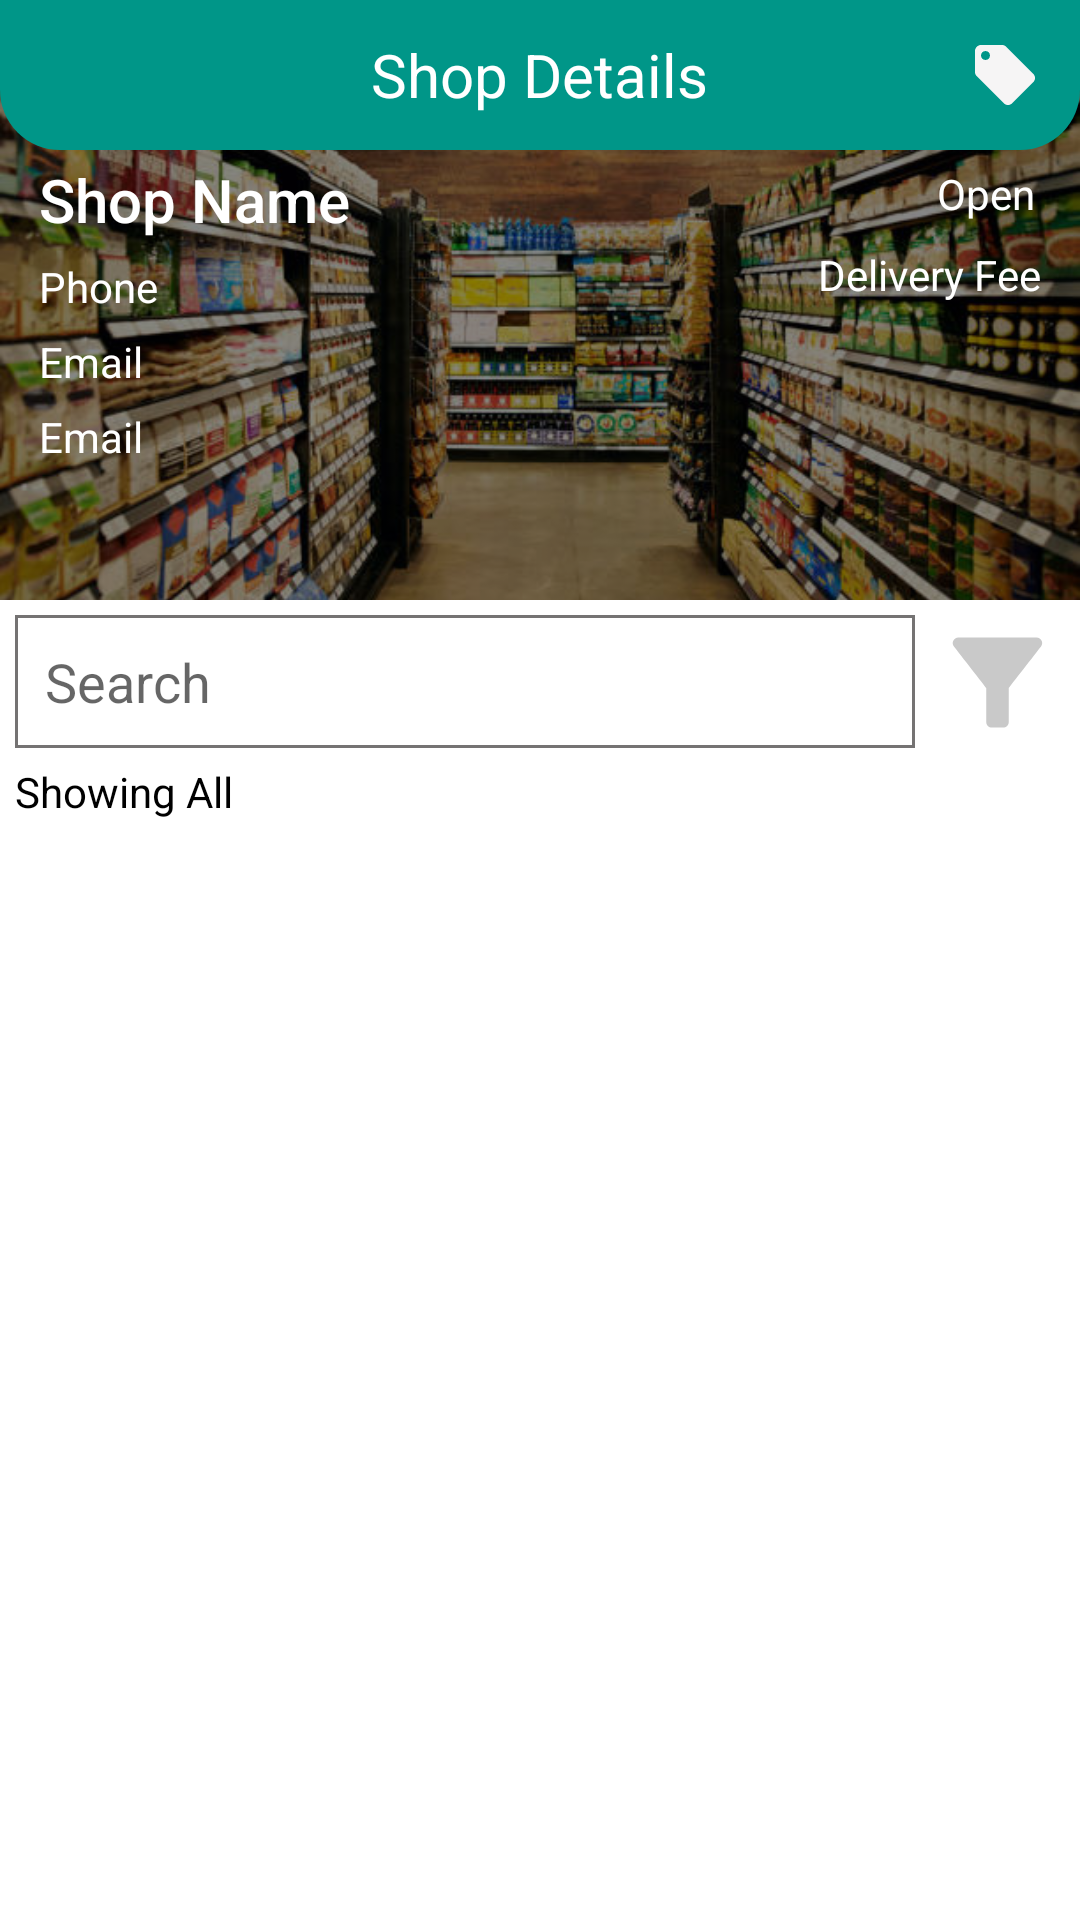

Icon bounding boxes for this 1080px x 1920px phone screenshot, format Rect(x1, y1, x2, y2):
filter: Rect(953, 637, 1042, 728)
local offer: Rect(975, 45, 1035, 105)
